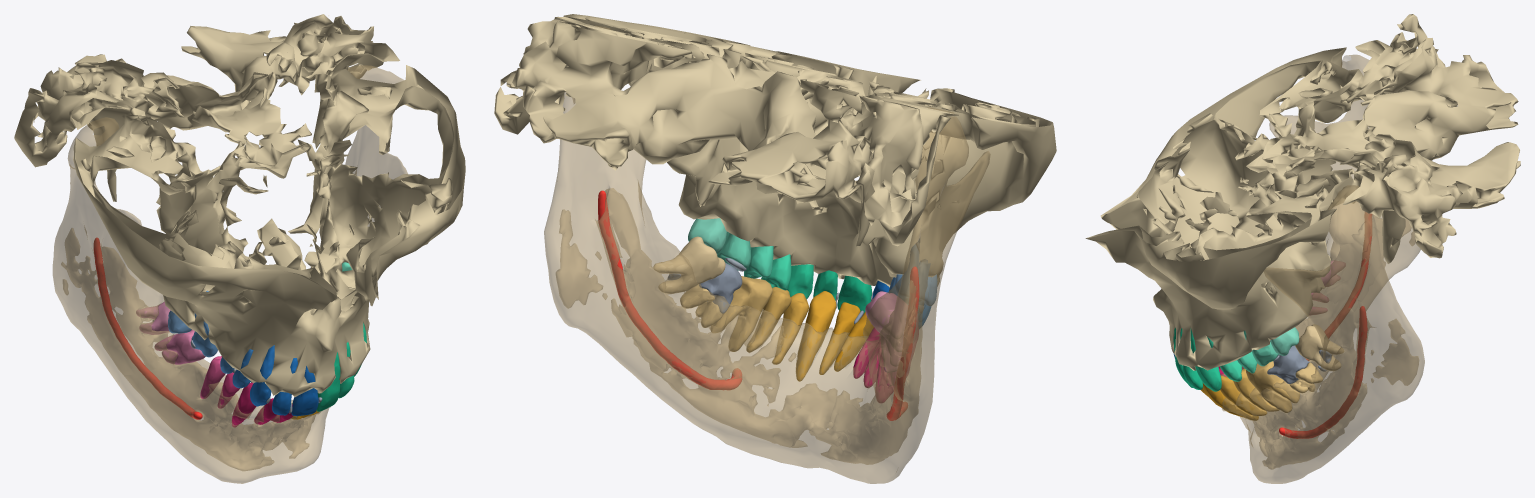
File: arch.4ff0e900.glb
3 renders of one model, left to right at view 1: azimuth 30°, elevation 25°; view 2: azimuth 150°, elevation 25°; view 3: azimuth 270°, elevation 25°, orthographic. The views are drawn at different scales.
Parts seen in each view (by area): view 1: maxilla, mandible, canal, tooth_47, tooth_48, tooth_13, tooth_11, tooth_21, tooth_43, tooth_45, tooth_12; view 2: maxilla, mandible, canal, tooth_38, tooth_36, tooth_33, tooth_48, lower_teeth_unnumbered, tooth_17, tooth_35, tooth_34, tooth_32 (+9 smaller); view 3: maxilla, mandible, canal, tooth_36, tooth_38, lower_teeth_unnumbered, tooth_34, tooth_35, tooth_37, tooth_23, tooth_33, tooth_27.
Boxes of the visible parts, box(x1,y1,x2,y2) form: maxilla: box(14, 14, 465, 396); mandible: box(52, 65, 407, 483); canal: box(94, 238, 202, 419); tooth_47: box(155, 329, 205, 364); tooth_48: box(136, 301, 170, 334); tooth_13: box(250, 345, 274, 406); tooth_11: box(291, 366, 318, 416); tooth_21: box(316, 352, 340, 411); tooth_43: box(232, 382, 256, 427); tooth_45: box(200, 356, 225, 398); tooth_12: box(272, 358, 297, 415); maxilla: box(494, 14, 1056, 287); mandible: box(544, 25, 990, 483); canal: box(598, 190, 919, 420); tooth_38: box(653, 236, 725, 293); tooth_36: box(711, 276, 772, 351); tooth_33: box(796, 291, 836, 381); tooth_48: box(865, 291, 907, 351); lower_teeth_unnumbered: box(668, 262, 863, 324); tooth_17: box(895, 241, 937, 305); tooth_35: box(746, 287, 791, 352); tooth_34: box(772, 293, 808, 364); tooth_32: box(819, 302, 860, 374); maxilla: box(1085, 14, 1520, 370); mandible: box(1220, 54, 1424, 483); canal: box(1279, 212, 1371, 438); tooth_36: box(1246, 361, 1299, 412); tooth_38: box(1295, 324, 1343, 370); lower_teeth_unnumbered: box(1267, 345, 1331, 383); tooth_34: box(1220, 375, 1266, 415); tooth_35: box(1233, 368, 1278, 411); tooth_37: box(1289, 362, 1322, 393); tooth_23: box(1190, 328, 1221, 391); tooth_33: box(1202, 383, 1258, 420); tooth_27: box(1270, 327, 1299, 355).
Size of the model in its own units: 137 by 137 by 143.
